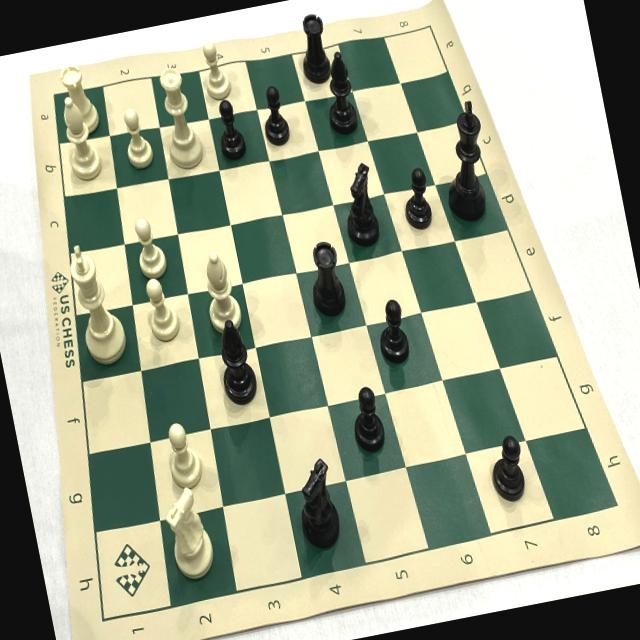black-bishop: (207, 312, 267, 414), (314, 41, 366, 142)
black-king: (428, 94, 502, 230)
black-knight: (283, 448, 354, 560), (333, 156, 388, 256)
black-pawn: (476, 424, 536, 514), (340, 376, 395, 462), (369, 292, 419, 372), (206, 92, 255, 168), (392, 160, 439, 236), (252, 80, 296, 154)
black-rook: (296, 230, 354, 326), (290, 7, 339, 94)
white-bishop: (191, 240, 249, 340), (54, 90, 108, 188)
white-king: (58, 232, 134, 374)
white-knight: (156, 478, 222, 588)
white-pawn: (155, 413, 211, 497), (136, 272, 187, 350), (124, 210, 170, 285), (114, 103, 160, 177), (191, 34, 237, 106)
white-queen: (149, 58, 210, 178)
white-rook: (54, 54, 108, 140)
